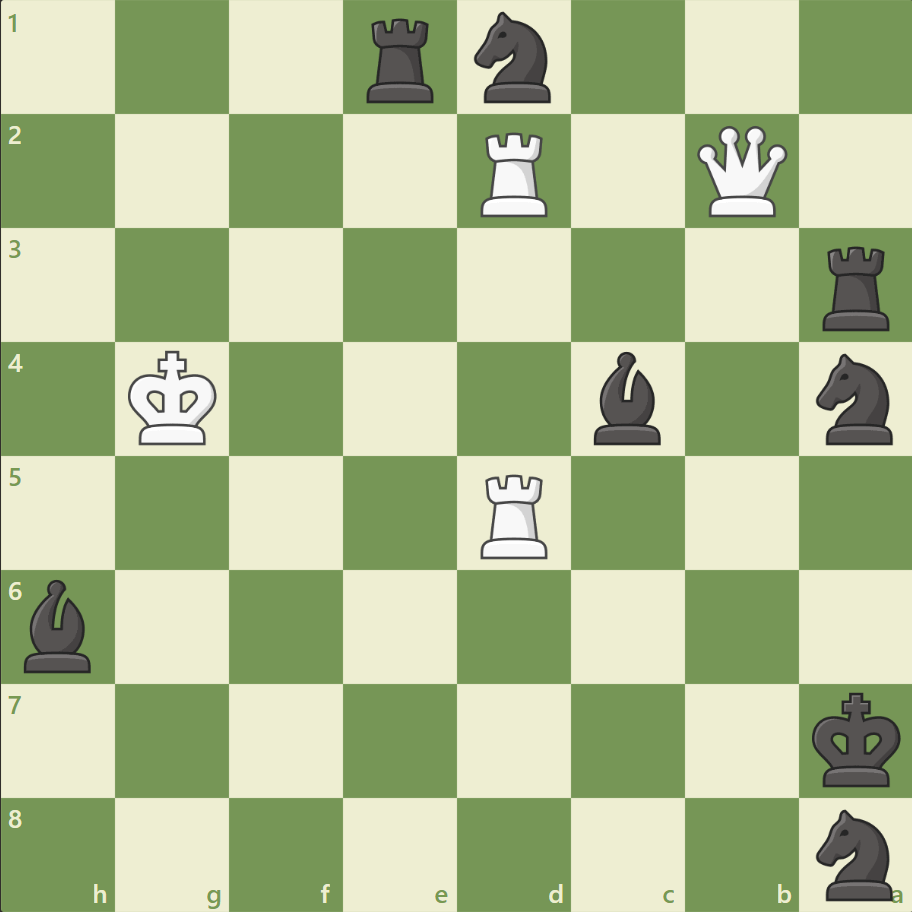K: (124, 344, 224, 452)
Q: (691, 122, 790, 222)
R: (473, 466, 556, 563), (473, 125, 556, 222)
b: (17, 574, 101, 676), (585, 347, 669, 449)
k: (806, 685, 906, 793)
n: (465, 7, 562, 110), (806, 802, 903, 904), (806, 348, 903, 450)
r: (814, 239, 897, 336), (360, 12, 442, 109)
